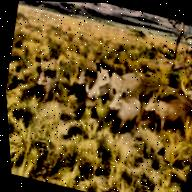boar: (77, 57, 169, 111), (137, 86, 192, 137), (99, 80, 143, 130), (26, 53, 68, 105), (178, 59, 192, 117), (68, 61, 94, 92)
